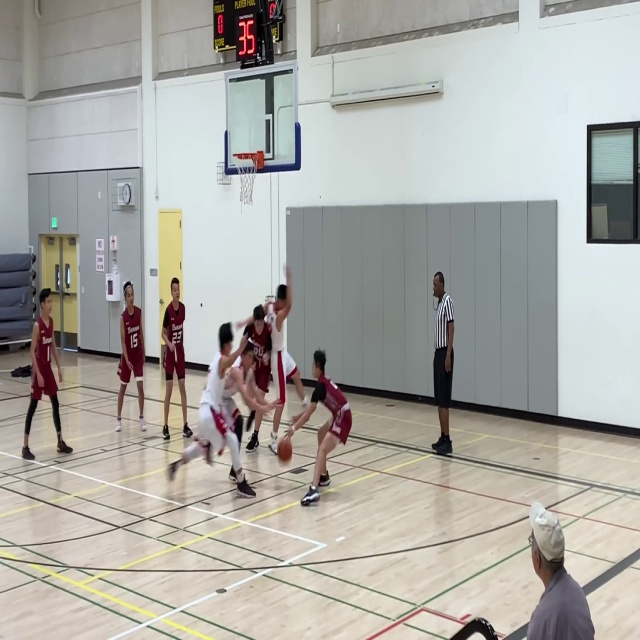Basketball: (277, 436, 292, 461)
